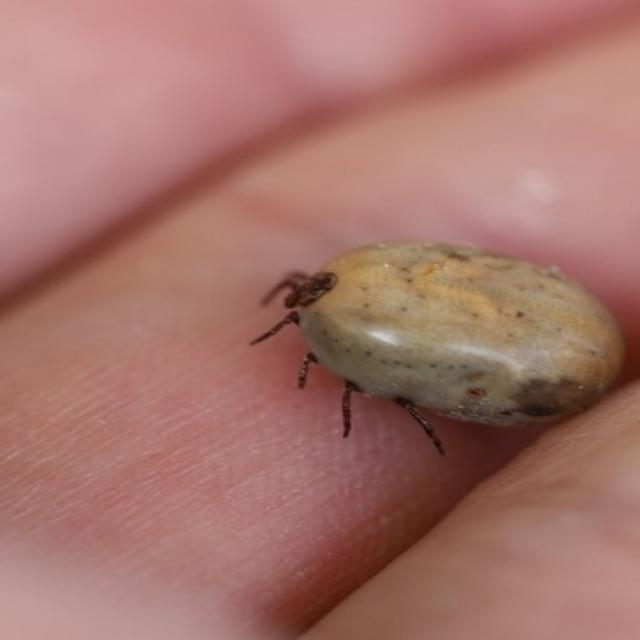Dermacentor Reticulatus-F-Fed: (248, 240, 628, 457)
